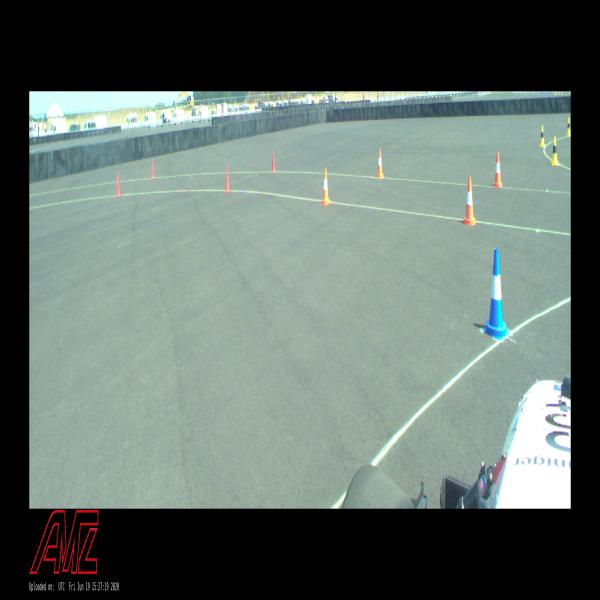blue_cone: (482, 248, 510, 343)
orange_cone: (464, 176, 476, 226), (320, 168, 330, 206), (493, 152, 502, 189), (376, 149, 383, 179)
yellow_cone: (550, 136, 558, 166), (539, 126, 545, 148), (566, 116, 571, 136)
